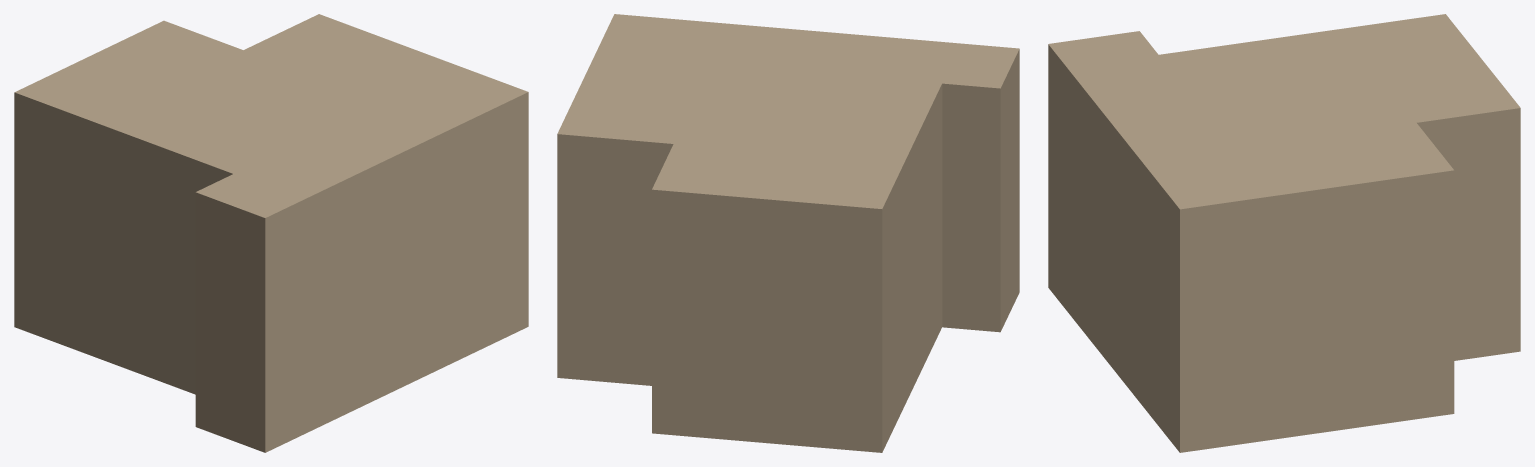
The model's file is bld_106338923.dae.
3 renders of one model, left to right at view 1: azimuth 30°, elevation 25°; view 2: azimuth 150°, elevation 25°; view 3: azimuth 270°, elevation 25°, orthographic. The views are drawn at different scales.
Visible parts, largest first — view 1: bld_106338923; view 2: bld_106338923; view 3: bld_106338923.
Part boxes in pixels (x1,y1,x2,y2): bld_106338923: (14, 14, 528, 452); bld_106338923: (557, 14, 1019, 452); bld_106338923: (1048, 14, 1520, 452).
Size of the model in its own units: 13.77 by 14.07 by 8.
